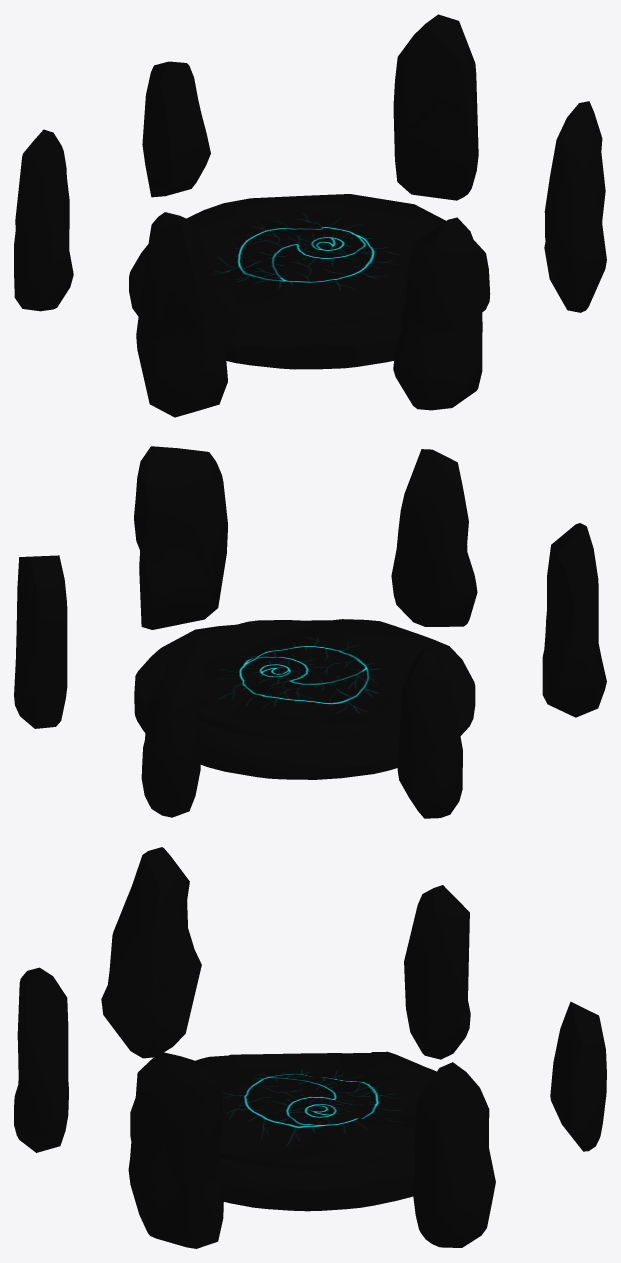
File: portal.glb
The picture shows the model from 3 angles, top to bottom: view 1: azimuth 30°, elevation 25°; view 2: azimuth 150°, elevation 25°; view 3: azimuth 270°, elevation 25°; orthographic projection. The views are drawn at different scales.
Parts seen in each view (by area): view 1: portalbase, portalmonolith_5, portalmonolith_4, portalmonolith_2, portalmonolith_3, portalmonolith_6, portalmonolith; view 2: portalbase, portalmonolith_3, portalmonolith_4, portalmonolith_5, portalmonolith_6, portalmonolith_2, portalmonolith; view 3: portalbase, portalmonolith_3, portalmonolith_5, portalmonolith_2, portalmonolith_6, portalmonolith_4, portalmonolith.
Boxes of the visible parts, <box> form: portalbase: <box>129,194,490,369</box>; portalmonolith_5: <box>136,212,227,417</box>; portalmonolith_4: <box>393,217,482,410</box>; portalmonolith_2: <box>393,14,478,200</box>; portalmonolith_3: <box>544,101,606,312</box>; portalmonolith_6: <box>14,129,73,311</box>; portalmonolith: <box>142,61,210,197</box>; portalbase: <box>134,619,475,779</box>; portalmonolith_3: <box>134,446,227,629</box>; portalmonolith_4: <box>391,449,477,626</box>; portalmonolith_5: <box>542,523,606,717</box>; portalmonolith_6: <box>397,645,462,818</box>; portalmonolith_2: <box>14,555,67,728</box>; portalmonolith: <box>141,675,200,817</box>; portalbase: <box>130,1051,436,1211</box>; portalmonolith_3: <box>128,1051,223,1248</box>; portalmonolith_5: <box>101,847,201,1058</box>; portalmonolith_2: <box>412,1062,495,1247</box>; portalmonolith_6: <box>404,885,470,1059</box>; portalmonolith_4: <box>14,967,68,1152</box>; portalmonolith: <box>550,1001,606,1151</box>.
Bounding box in the file's own units: 1.09 × 0.4472 × 1.21.
1 material, 1 textured.
